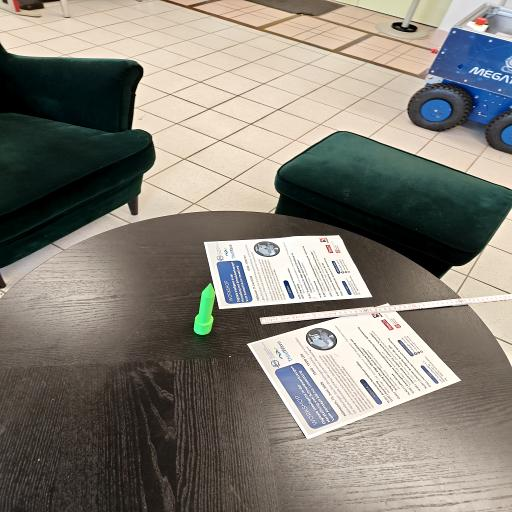Probe-Detection: (194, 284, 216, 335)
